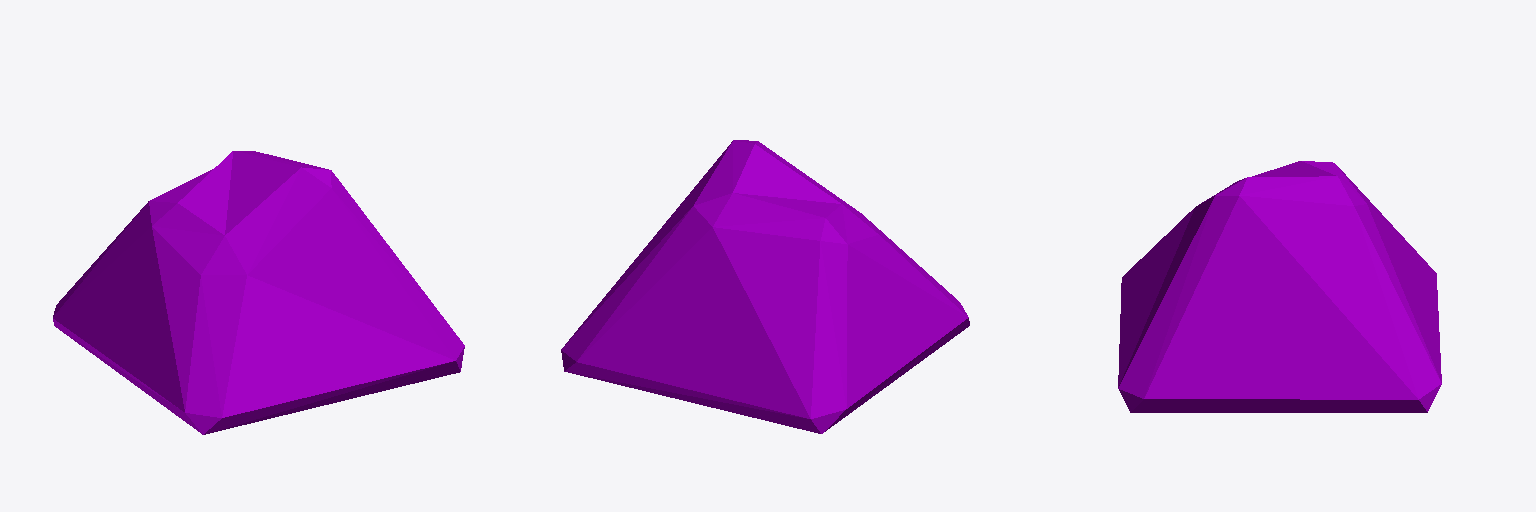
File: ame_dozet.obj
3 views of the same model, side by side, from view 1: azimuth 30°, elevation 25°; view 2: azimuth 150°, elevation 25°; view 3: azimuth 270°, elevation 25° (orthographic).
Visible parts, largest first — view 1: Cube; view 2: Cube; view 3: Cube.
Boxes of the visible parts, x1,y1,x2,y2 form: Cube: [53, 151, 464, 434]; Cube: [561, 140, 969, 433]; Cube: [1118, 161, 1441, 412].
Size of the model in its own units: 1.89 by 1.2 by 1.88.